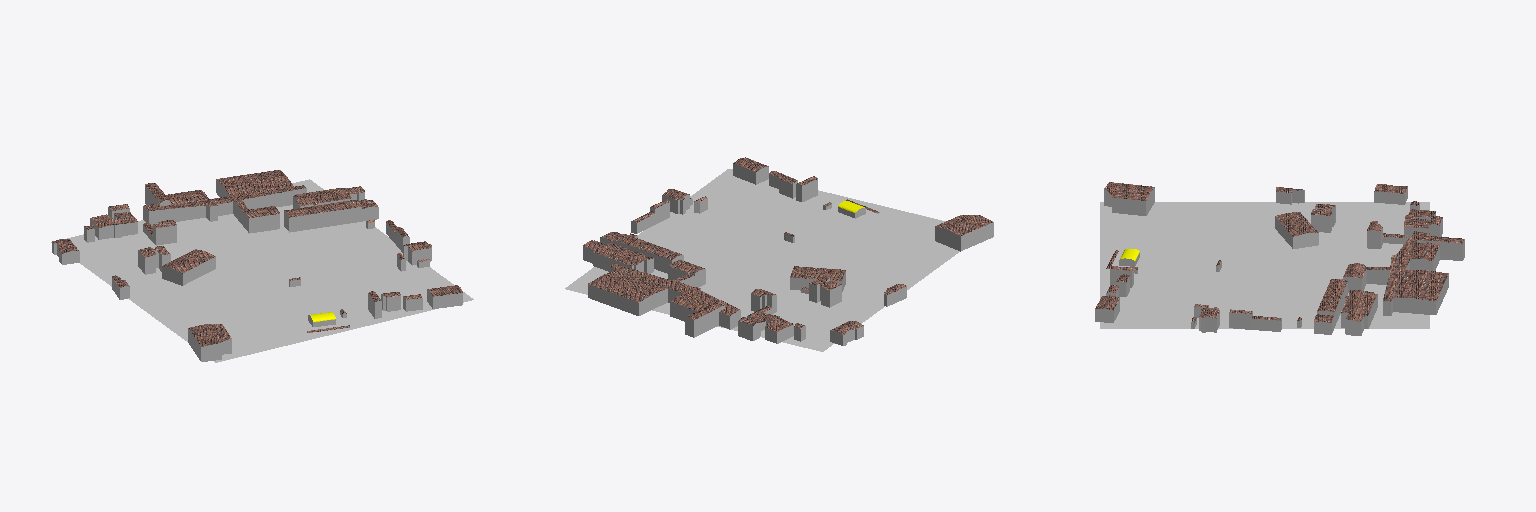
3 views of the same model, side by side, from view 1: azimuth 30°, elevation 25°; view 2: azimuth 150°, elevation 25°; view 3: azimuth 270°, elevation 25° (orthographic).
Parts seen in each view (by area): view 1: Terrain, map_11.osm_buildings; view 2: Terrain, map_11.osm_buildings; view 3: Terrain, map_11.osm_buildings.
Part boxes in pixels (x1,y1,x2,y2): Terrain: (51, 179, 473, 362); map_11.osm_buildings: (52, 170, 462, 361); Terrain: (565, 169, 959, 351); map_11.osm_buildings: (583, 157, 993, 345); Terrain: (1100, 202, 1429, 328); map_11.osm_buildings: (1095, 182, 1464, 335).
Size of the model in its own units: 592 by 37.49 by 655.
4 materials, 1 textured.